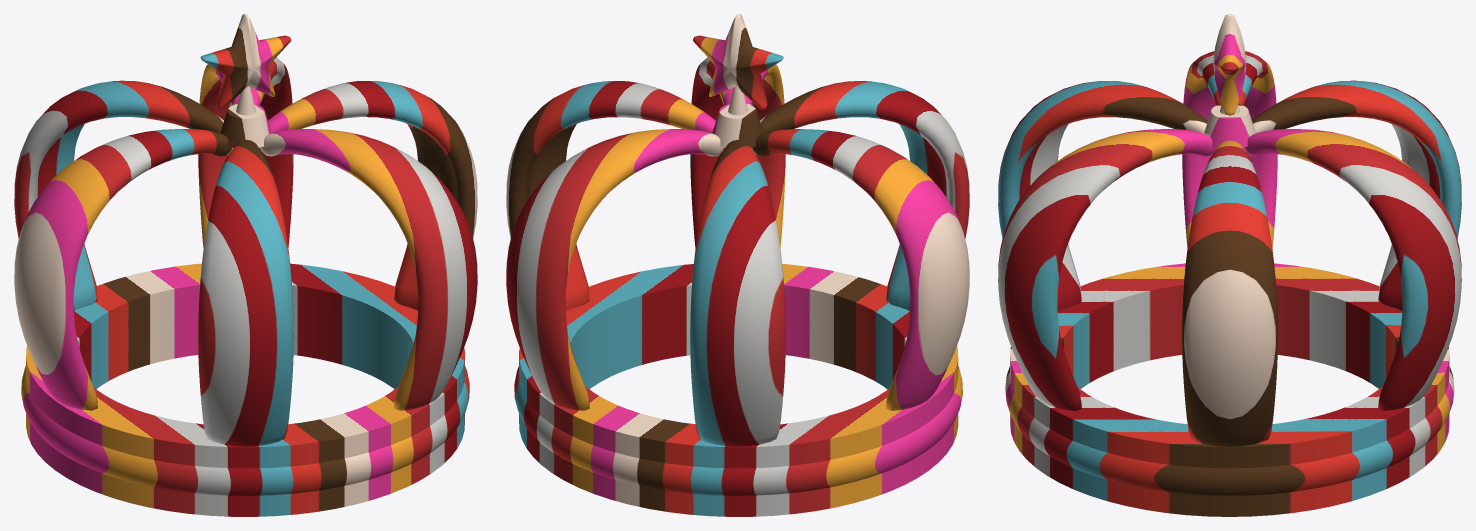
The model's file is A-7_Onstick.fbx.
3 views of the same model, side by side, from view 1: azimuth 30°, elevation 25°; view 2: azimuth 150°, elevation 25°; view 3: azimuth 270°, elevation 25° (orthographic).
Visible parts, largest first — view 1: A-7; view 2: A-7; view 3: A-7.
Part boxes in pixels (<box>): A-7: <box>14,14,477,516</box>; A-7: <box>506,14,969,516</box>; A-7: <box>998,14,1461,516</box>.
Size of the model in its own units: 1.2 by 1.05 by 1.08.
Materials: 1 (1 with a texture image).
